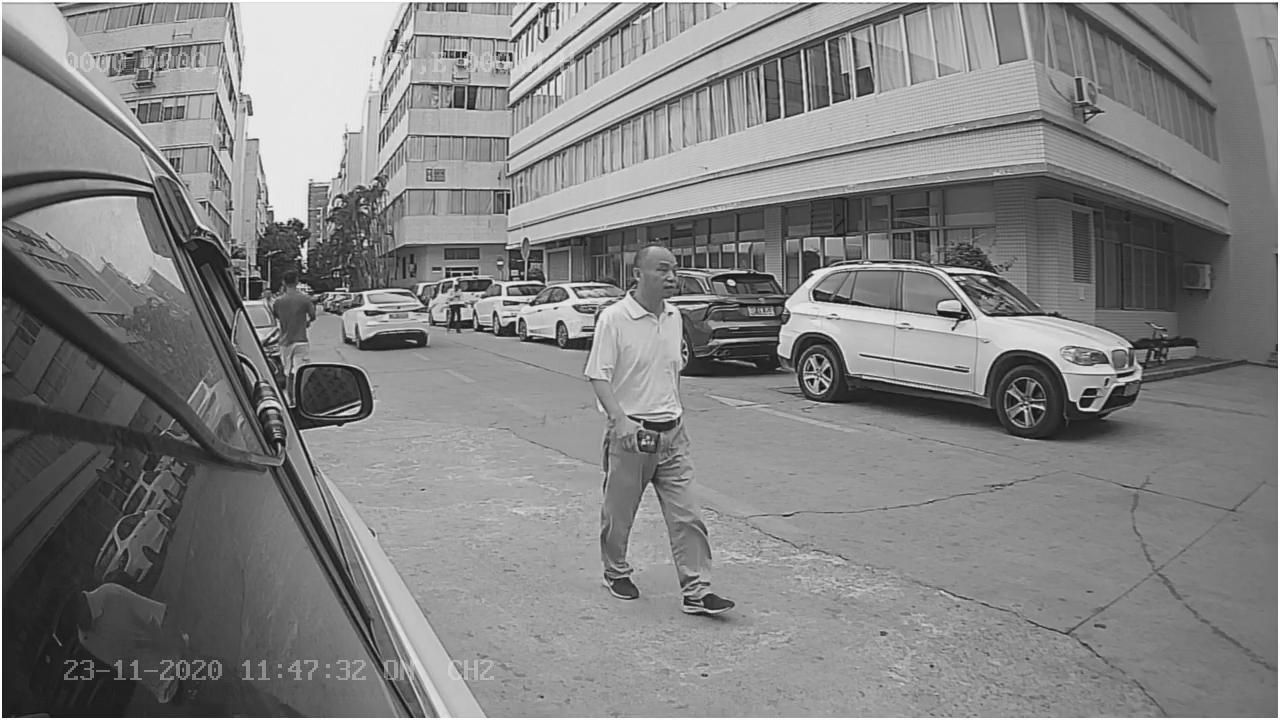person: (586, 245, 739, 626)
